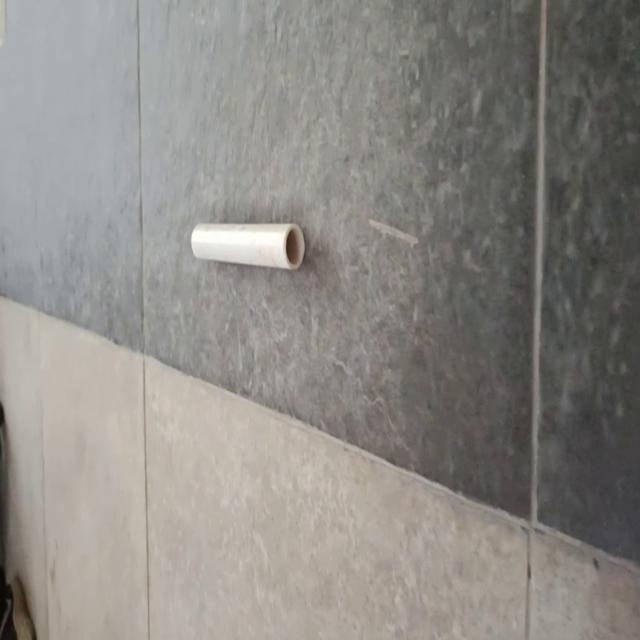Cube: (190, 220, 306, 271)
